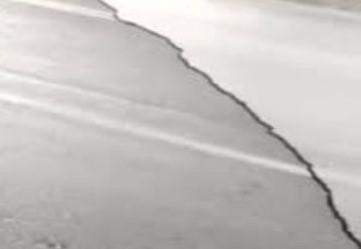crack: (228, 101, 333, 196), (116, 6, 230, 90), (322, 209, 361, 249)
